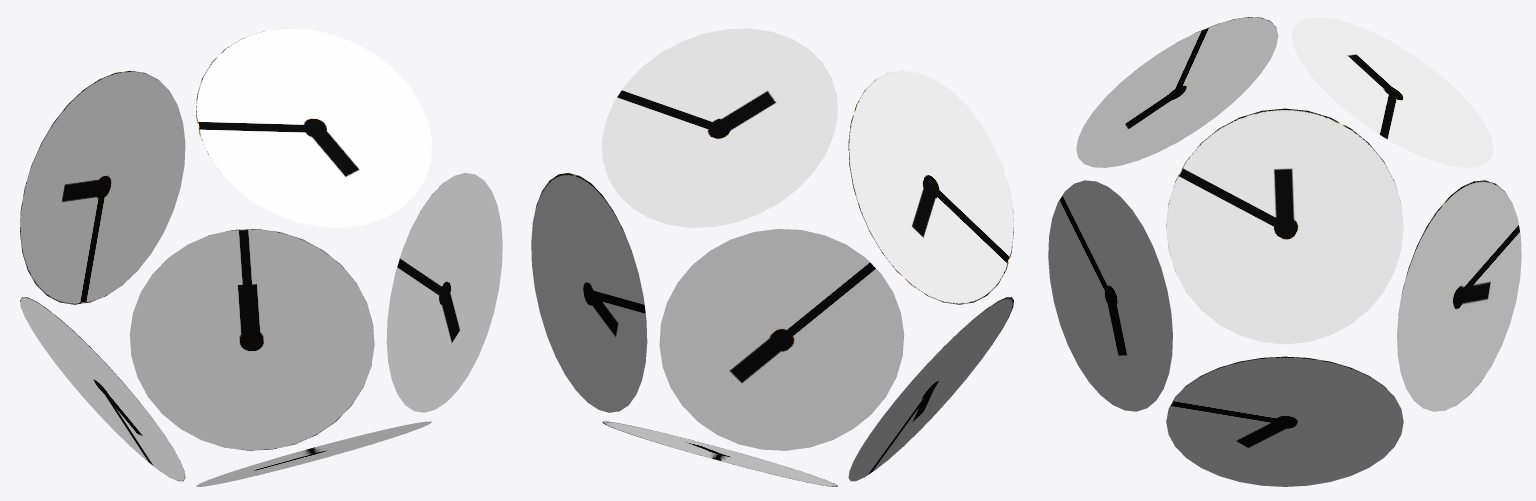
Rendered from DrMalloyDice_d12.glb.
The picture shows the model from 3 angles, left to right: view 1: azimuth 30°, elevation 25°; view 2: azimuth 150°, elevation 25°; view 3: azimuth 270°, elevation 25°; orthographic projection. The views are drawn at different scales.
Parts seen in each view (by area): view 1: Mesh_0; view 2: Mesh_0; view 3: Mesh_0.
Part boxes in pixels (x1,y1,x2,y2): Mesh_0: (20, 28, 502, 486); Mesh_0: (531, 28, 1013, 486); Mesh_0: (1048, 17, 1521, 486).
Size of the model in its own units: 175 by 175 by 175.
Materials: 1 (1 with a texture image).
